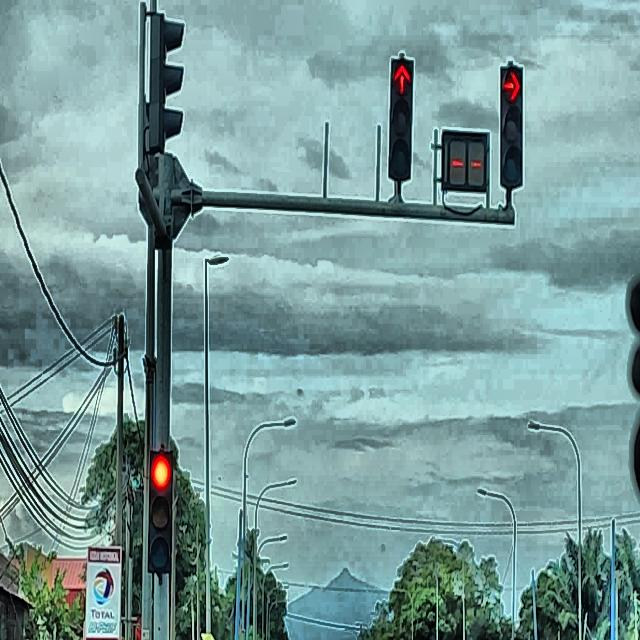red: (146, 451, 173, 573), (388, 58, 414, 178), (499, 67, 524, 186)
